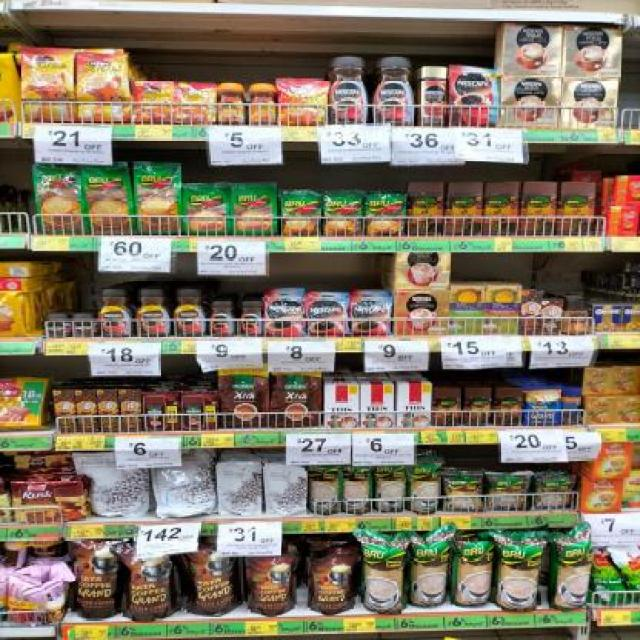Coffee: (21, 50, 74, 121), (76, 54, 129, 121), (371, 58, 415, 125), (328, 57, 369, 125), (451, 66, 497, 126), (280, 80, 326, 124), (304, 298, 348, 334), (265, 297, 304, 335), (351, 298, 389, 336), (217, 82, 248, 126), (248, 83, 278, 125), (208, 299, 237, 336), (239, 299, 264, 336), (71, 315, 95, 336), (46, 314, 70, 335)
